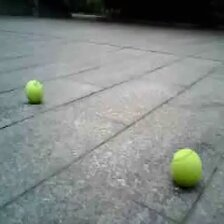tennis: (172, 150, 202, 186), (24, 80, 43, 102)
